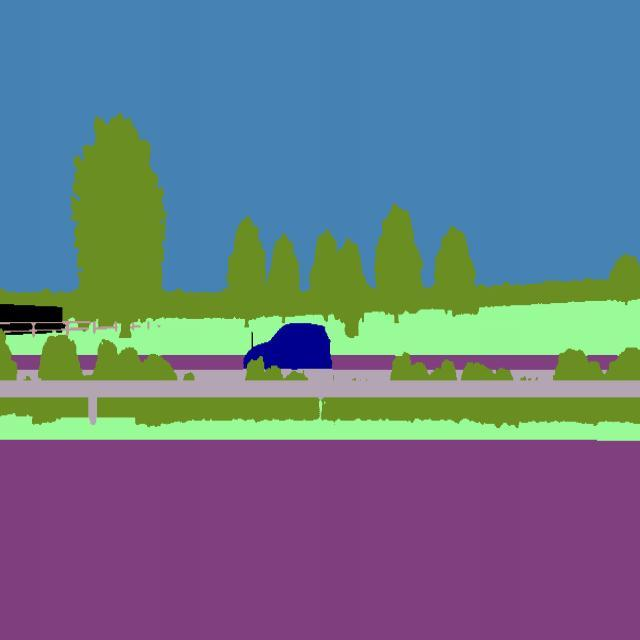safe: (241, 314, 334, 382)
